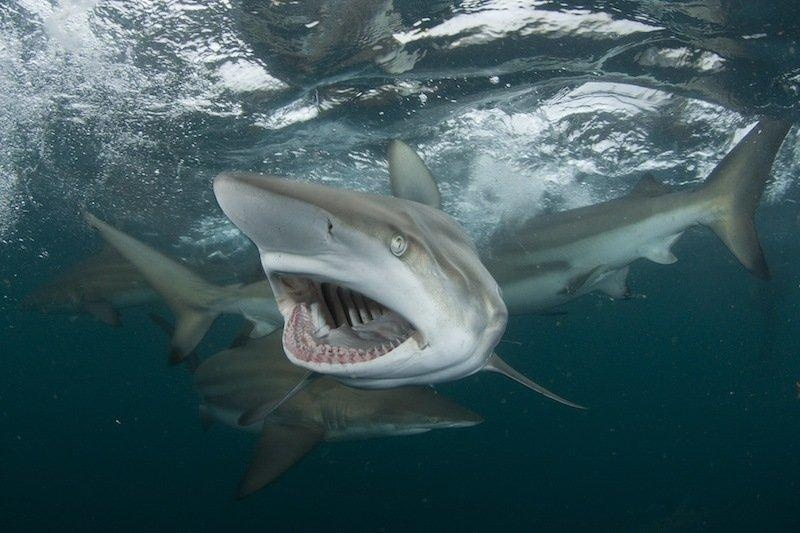fish: (78, 121, 518, 375), (173, 324, 489, 484)
